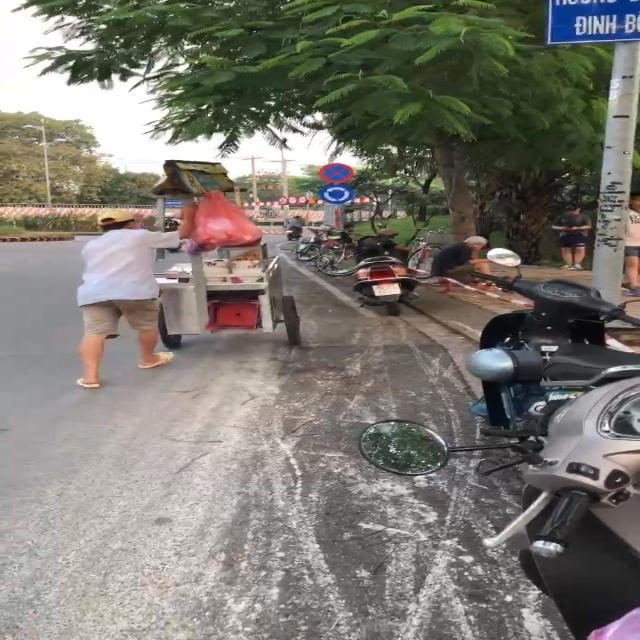Bien bao cam dung xe va do xe: (316, 162, 356, 185)
Bien bao noi giao nhau chay theo vong xuyen: (319, 185, 358, 204)
